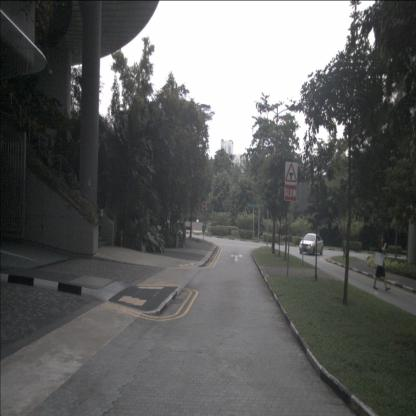human-pedestrian-adult: (371, 234, 391, 292), (182, 218, 187, 248)
vehicle-car: (299, 233, 323, 256)
